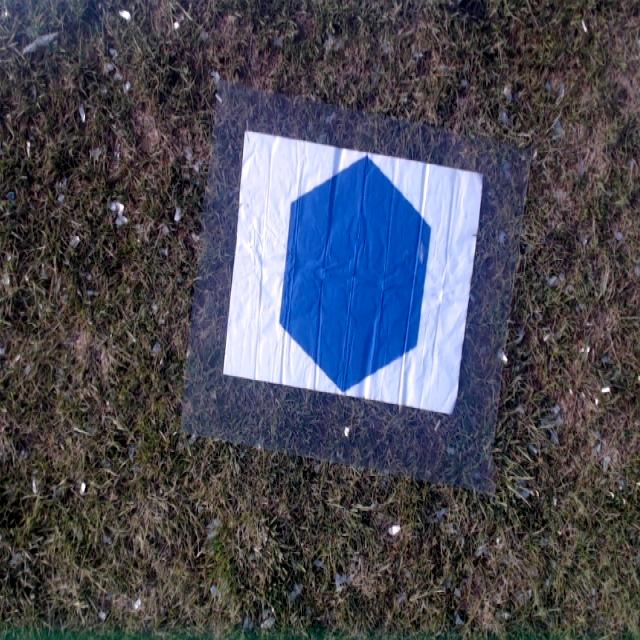blue_hexagon: (280, 152, 430, 392)
